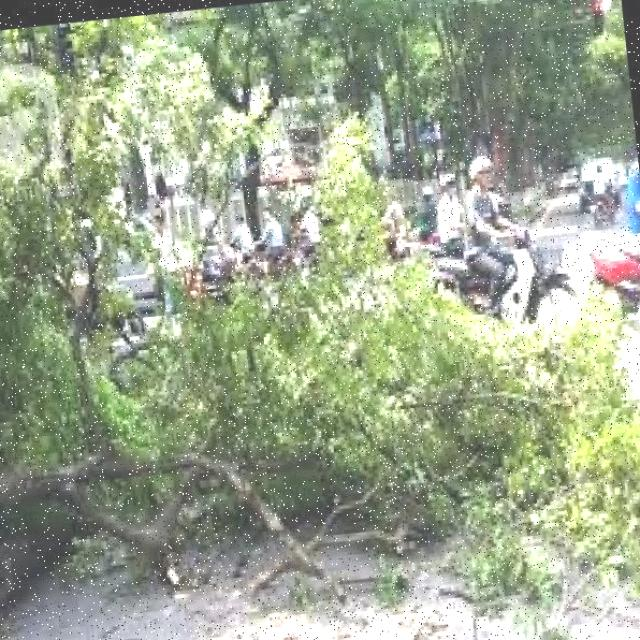fallen_object: (0, 226, 585, 595)
